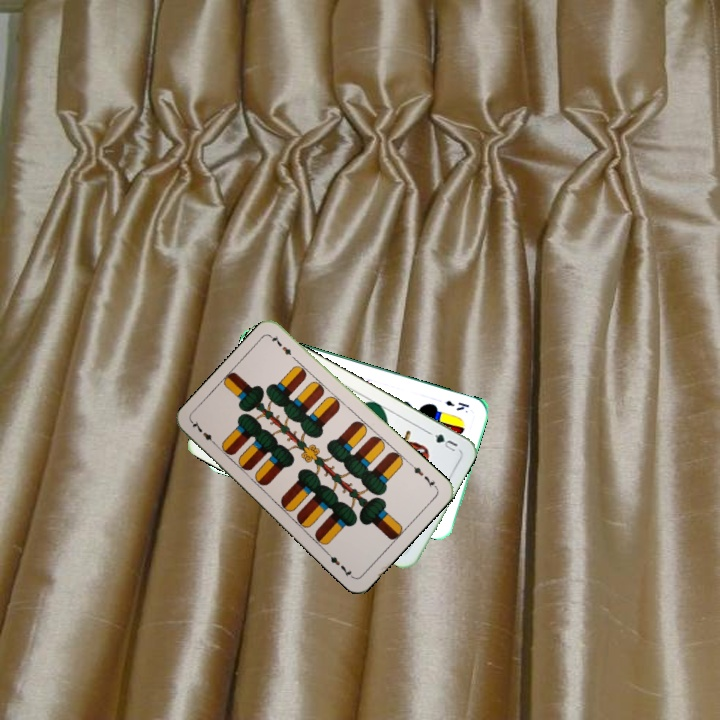E7: (188, 417, 221, 450), (406, 460, 440, 491)
EK: (441, 396, 472, 413)
GU: (424, 428, 460, 454)
